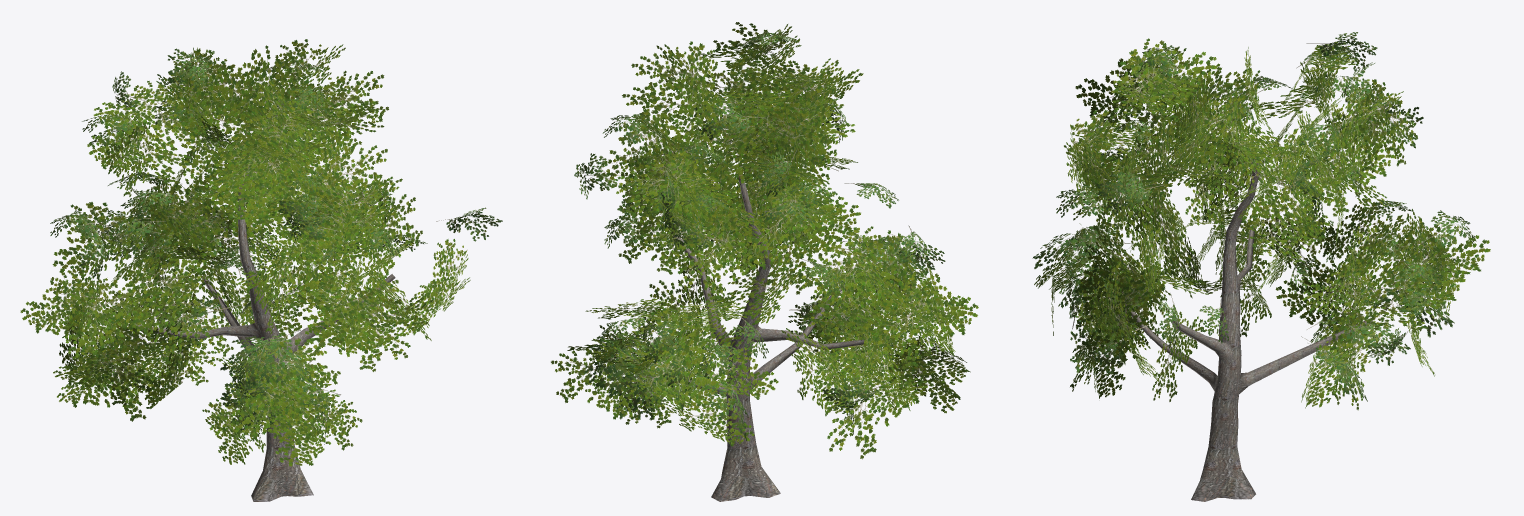
The model's file is strom_listnac_lod2.glb.
The picture shows the model from 3 angles, left to right: view 1: azimuth 30°, elevation 25°; view 2: azimuth 150°, elevation 25°; view 3: azimuth 270°, elevation 25°; orthographic projection. The views are drawn at different scales.
Visible parts, largest first — view 1: strom; view 2: strom; view 3: strom.
Boxes of the visible parts, x1,y1,x2,y2 form: strom: (20,39,502,501); strom: (551,22,978,501); strom: (1032,32,1490,501).
Bounding box in the file's own units: 20.12 × 19.53 × 18.53.
Materials: 2 (2 with a texture image).
